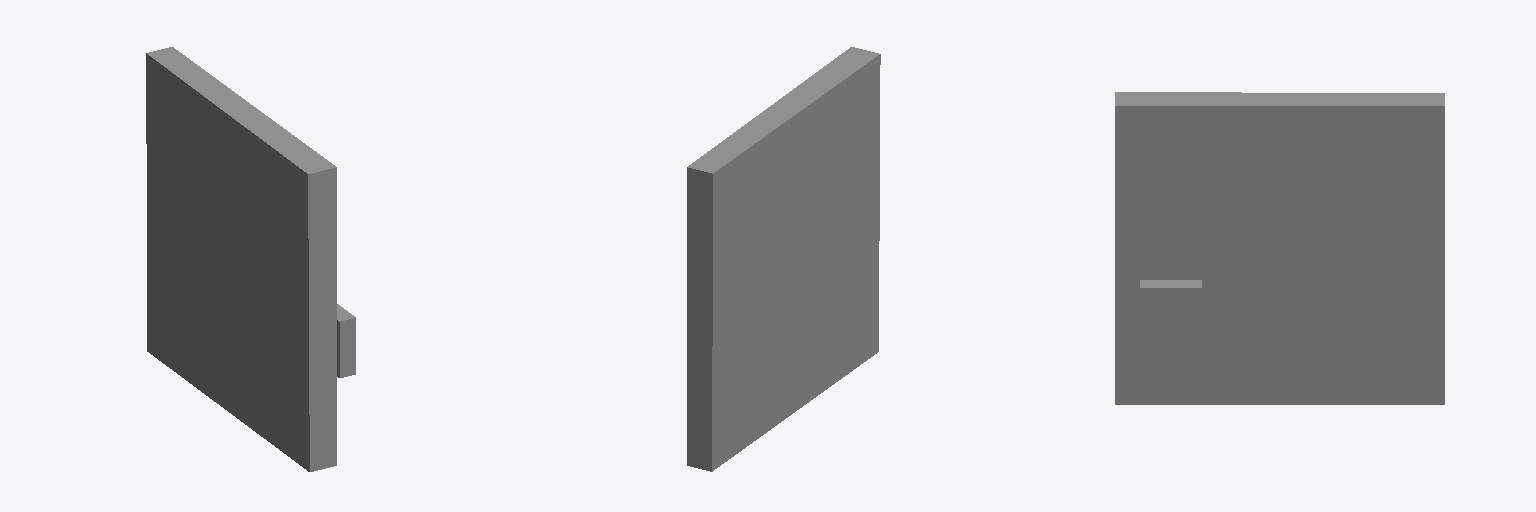
Rendered from kitchen_wooden_cabinet_door.obj.
3 views of the same model, side by side, from view 1: azimuth 30°, elevation 25°; view 2: azimuth 150°, elevation 25°; view 3: azimuth 270°, elevation 25° (orthographic).
Visible parts, largest first — view 1: Cube.002; view 2: Cube.002; view 3: Cube.002.
Boxes of the visible parts, x1,y1,x2,y2 form: Cube.002: [146, 47, 355, 471]; Cube.002: [687, 47, 880, 471]; Cube.002: [1115, 92, 1444, 404].
Bounding box in the file's own units: 0.4237 × 2 × 2.